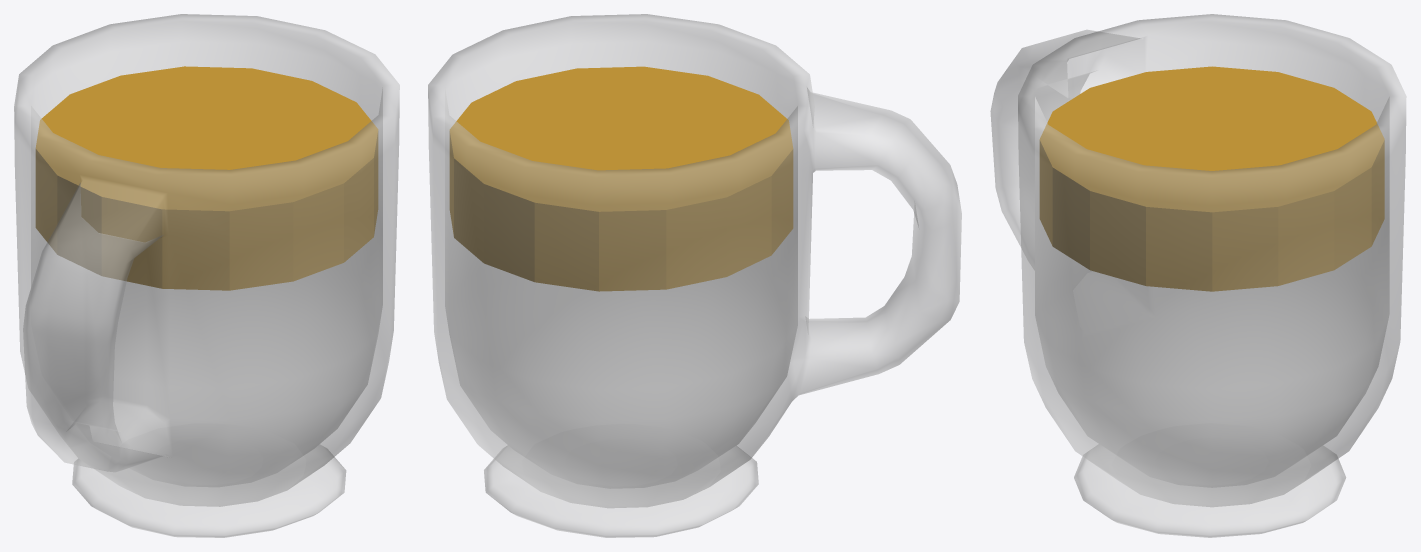
Rendered from White room coffee.fbx.
The picture shows the model from 3 angles, left to right: view 1: azimuth 30°, elevation 25°; view 2: azimuth 150°, elevation 25°; view 3: azimuth 270°, elevation 25°; orthographic projection.
Visible parts, largest first — view 1: Cup; view 2: Cup; view 3: Cup.
Boxes of the visible parts, box(x1,y1,x2,y2) form: Cup: box(14, 14, 399, 537); Cup: box(428, 14, 961, 537); Cup: box(990, 14, 1406, 537).
Size of the model in its own units: 0.202 by 0.1799 by 0.1705.
